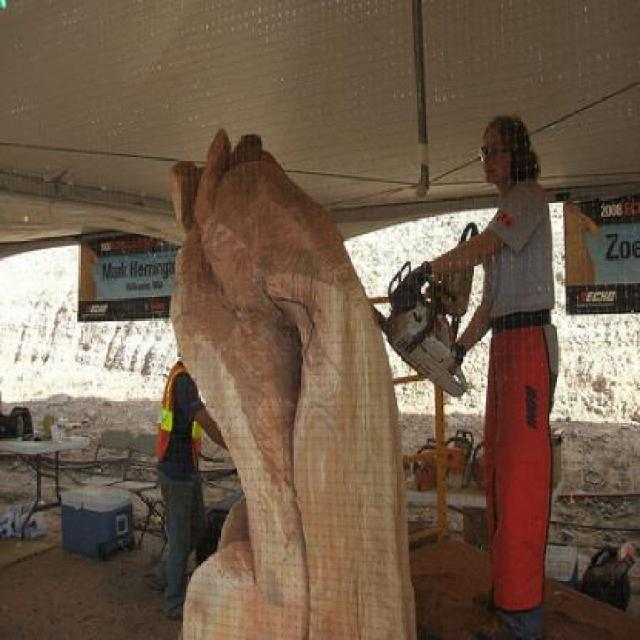Chainsaw: (372, 259, 470, 398)
